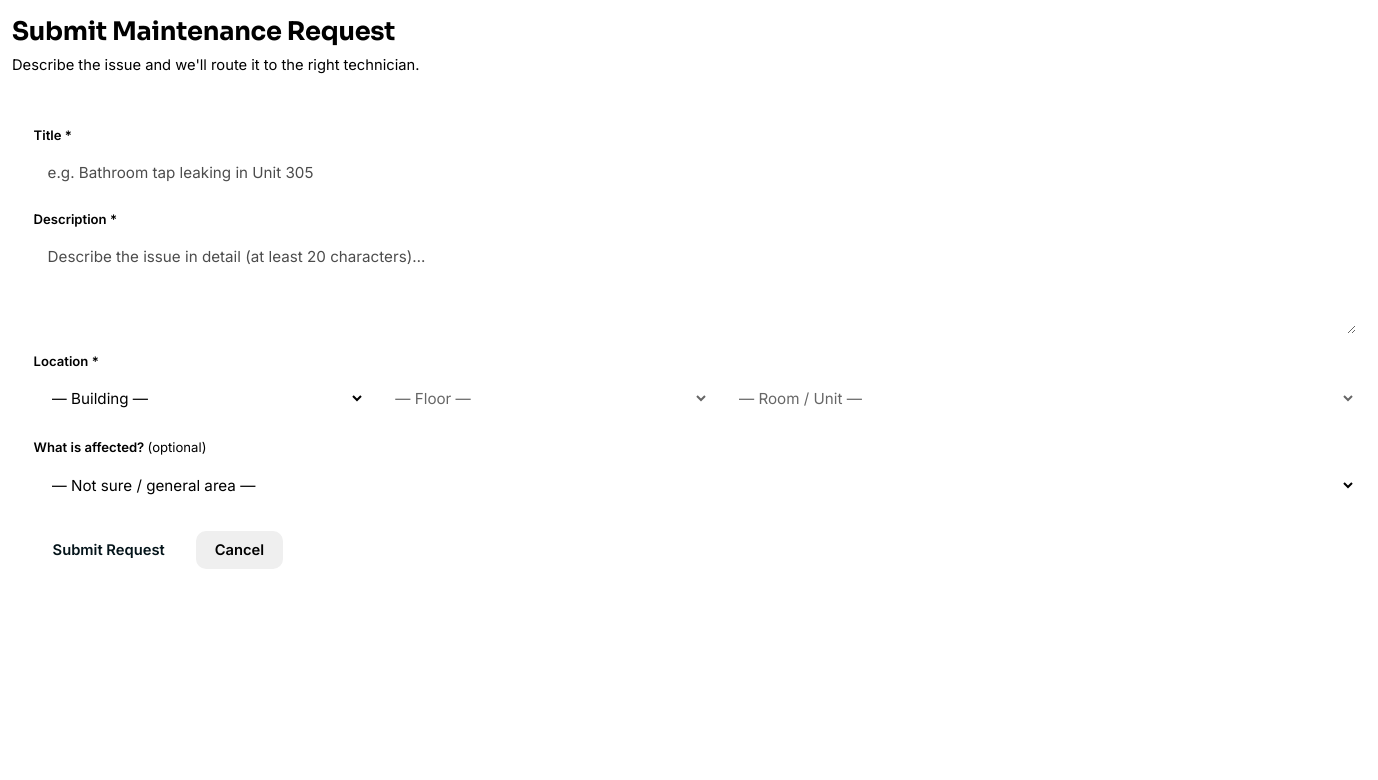
Test: SubmitRequestPage — form validation › shows title and description required errors when form is submitted empty
What coordinates should you click on to do the following:
click the button "Submit Request"
I would click on:
 (109, 550)
Its box is [34,531,184,569].
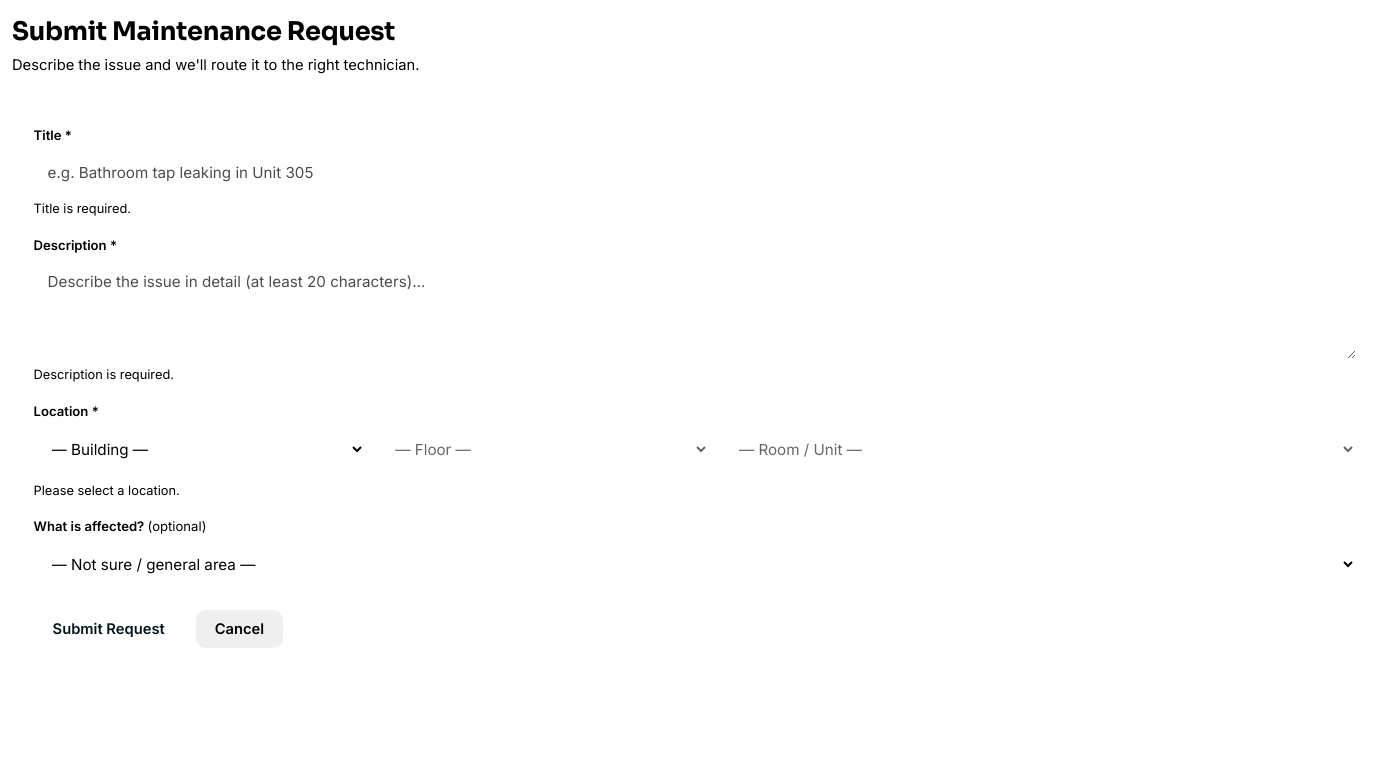
Result: the text "Title is required." is shown at [34,201,131,216]
Result: the text "Description is required." is shown at [34,367,174,382]
